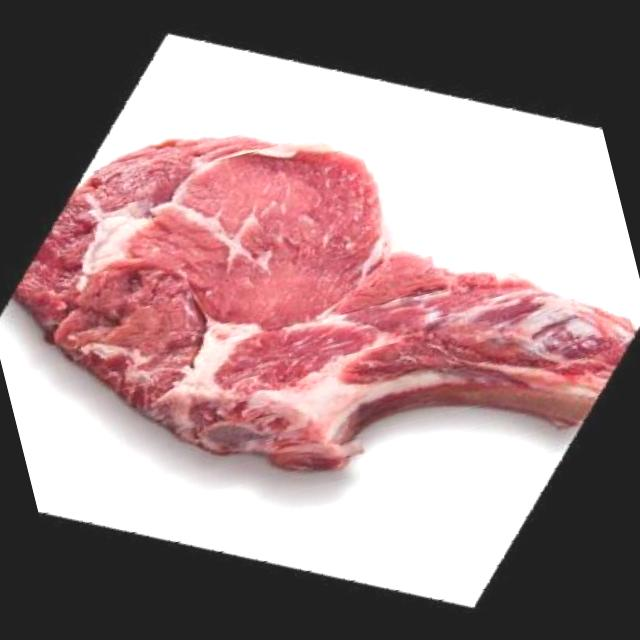beef: (0, 33, 640, 549)
